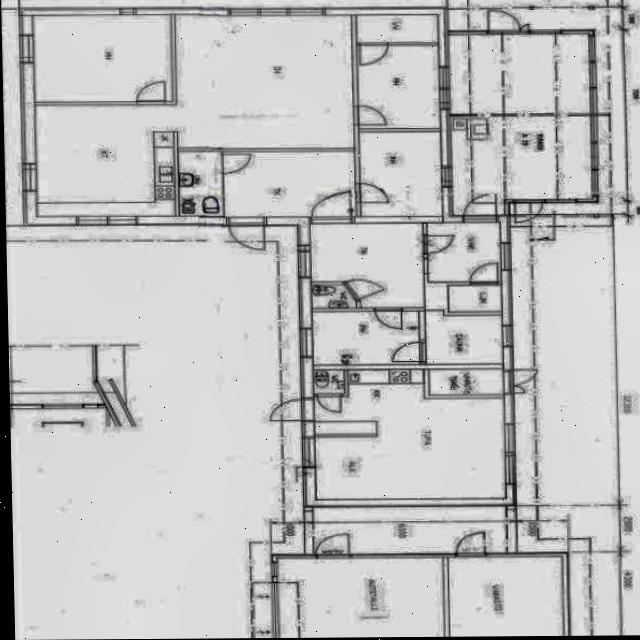room: (313, 368, 505, 500), (277, 557, 443, 638), (32, 15, 172, 102), (309, 223, 423, 309), (448, 556, 563, 637), (222, 151, 356, 217), (358, 131, 442, 218), (357, 44, 439, 130), (311, 311, 419, 365), (426, 223, 500, 282), (425, 310, 502, 364), (177, 150, 223, 218), (428, 368, 503, 395), (448, 285, 501, 312), (311, 284, 355, 308), (312, 369, 344, 394)
